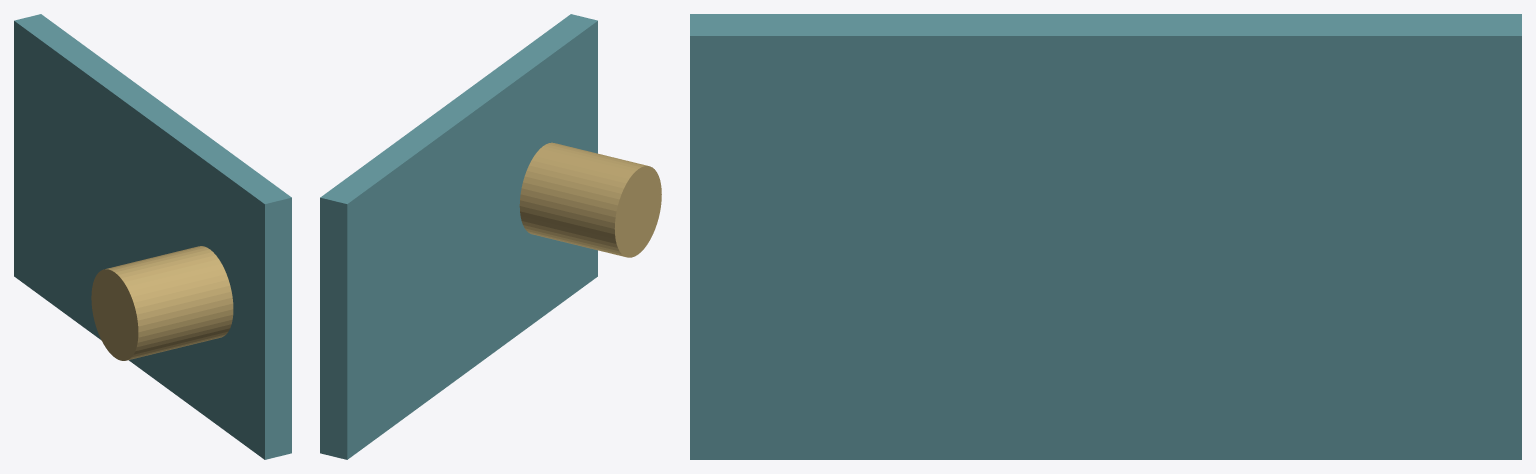
File: axis-r.glb
3 renders of one model, left to right at view 1: azimuth 30°, elevation 25°; view 2: azimuth 150°, elevation 25°; view 3: azimuth 270°, elevation 25°, orthographic. The views are drawn at different scales.
Visible parts, largest first — view 1: Pin-carrier-R-1, Pin-R-1; view 2: Pin-carrier-R-1, Pin-R-1; view 3: Pin-carrier-R-1.
Part boxes in pixels (x1,y1,x2,y2): Pin-carrier-R-1: (14, 14, 291, 459); Pin-R-1: (91, 246, 233, 360); Pin-carrier-R-1: (320, 14, 597, 459); Pin-R-1: (519, 142, 661, 257); Pin-carrier-R-1: (690, 14, 1521, 459).
Size of the model in its own units: 0.009 by 0.018 by 0.032.
